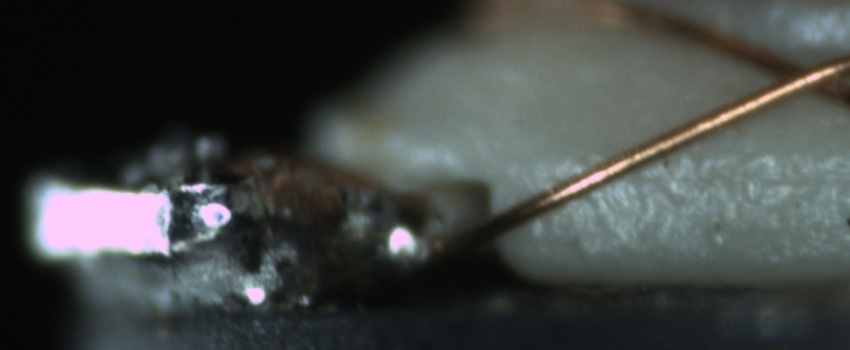CL: (746, 43, 845, 106)
DL: (542, 139, 849, 203)
